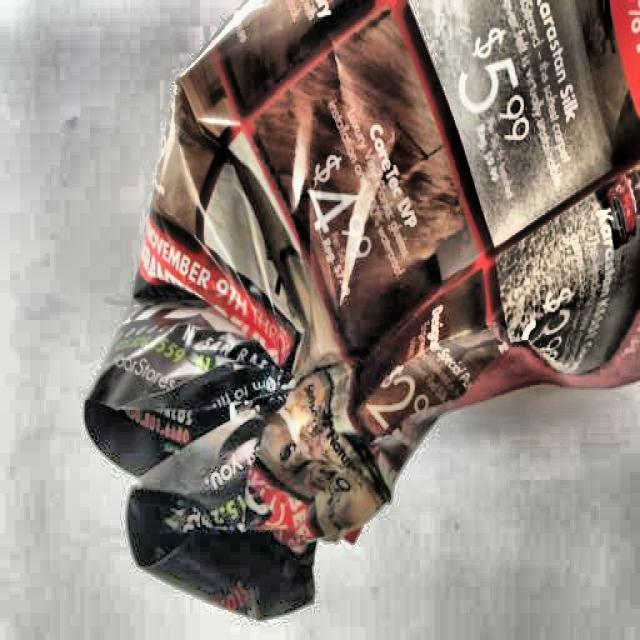paper: (79, 12, 640, 599)
